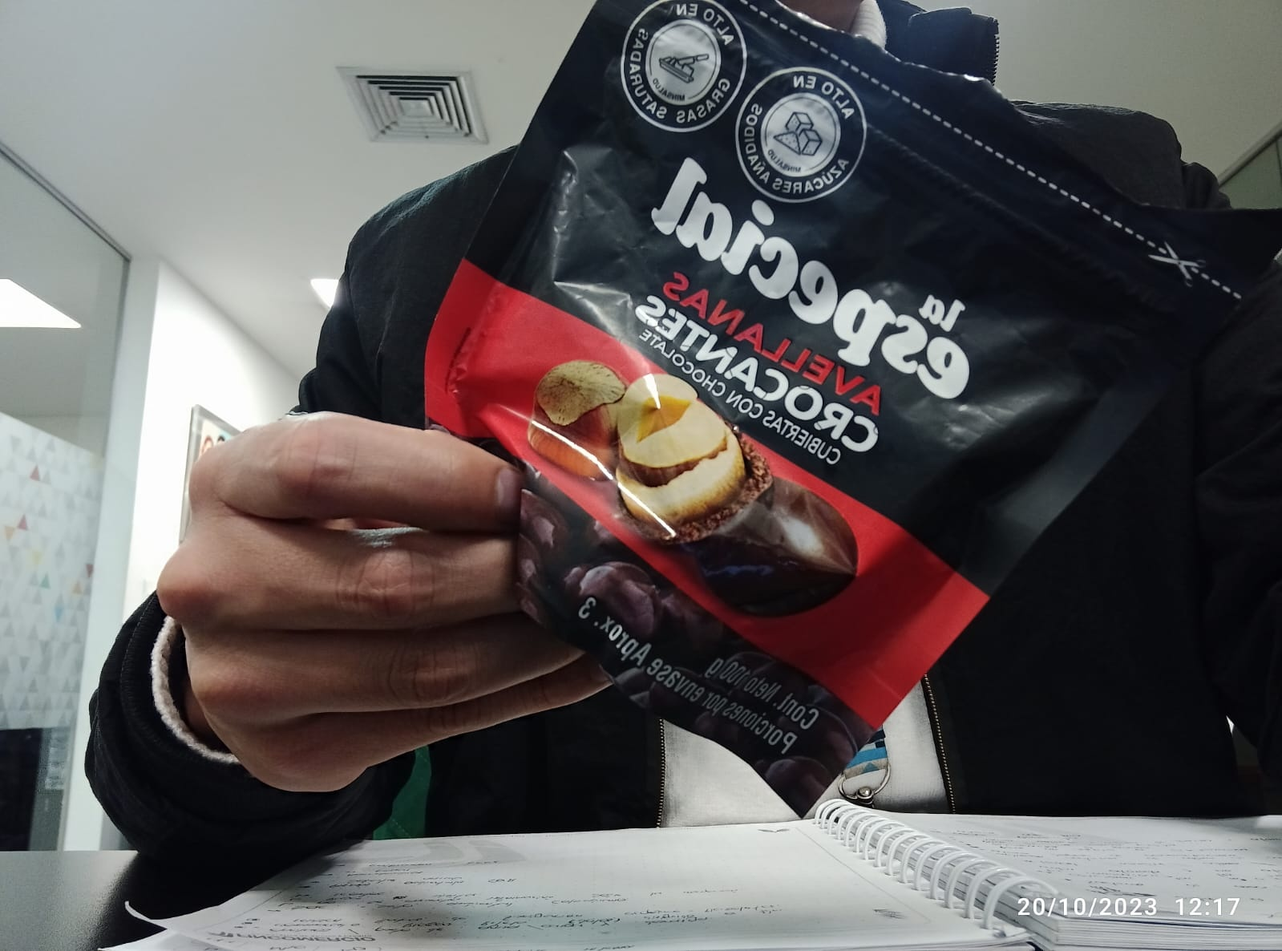Ordinario: (423, 0, 1257, 817)
